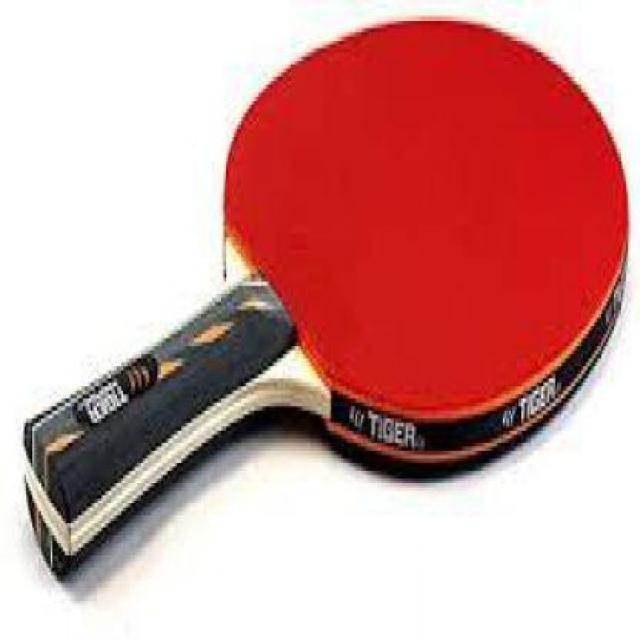table_tennis_racket: (218, 6, 628, 497)
